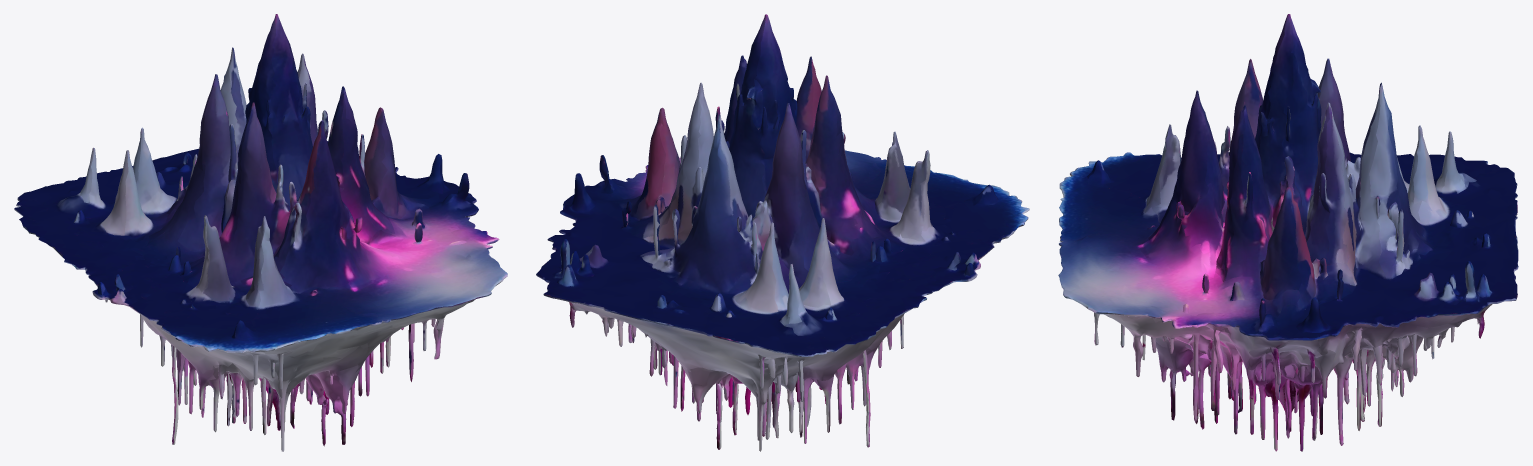
File: outer-shoal-north-generated-2026-05-17T20-53-16-392Z.high.glb
The picture shows the model from 3 angles, left to right: view 1: azimuth 30°, elevation 25°; view 2: azimuth 150°, elevation 25°; view 3: azimuth 270°, elevation 25°; orthographic projection. The views are drawn at different scales.
Parts seen in each view (by area): view 1: temp_mesh.ply; view 2: temp_mesh.ply; view 3: temp_mesh.ply.
Boxes of the visible parts, x1,y1,x2,y2 form: temp_mesh.ply: (14, 14, 507, 451); temp_mesh.ply: (536, 14, 1029, 451); temp_mesh.ply: (1058, 14, 1518, 451).
Size of the model in its own units: 1.95 by 1.97 by 1.98.
1 material, 1 textured.
